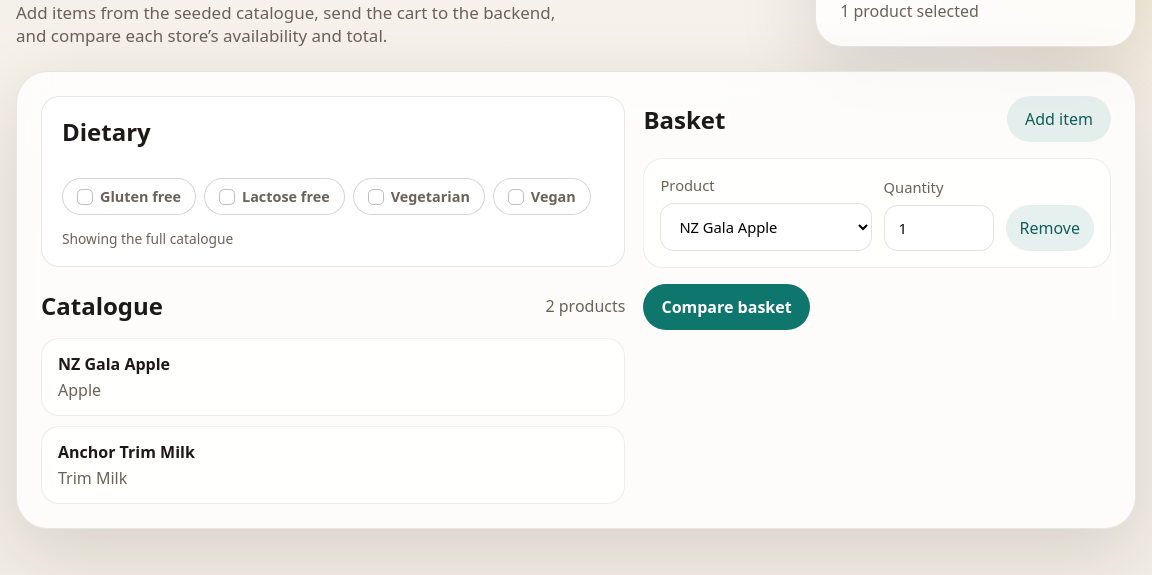
Test: basket comparison › clears a previous result when a failing comparison is retried
The image size is (1152, 575).
(page scrolled)
Expected: the text "Apple" is shown, [58,379,101,401]
Click the button "Compare basket" at x=726, y=307, box [643,284,810,330]
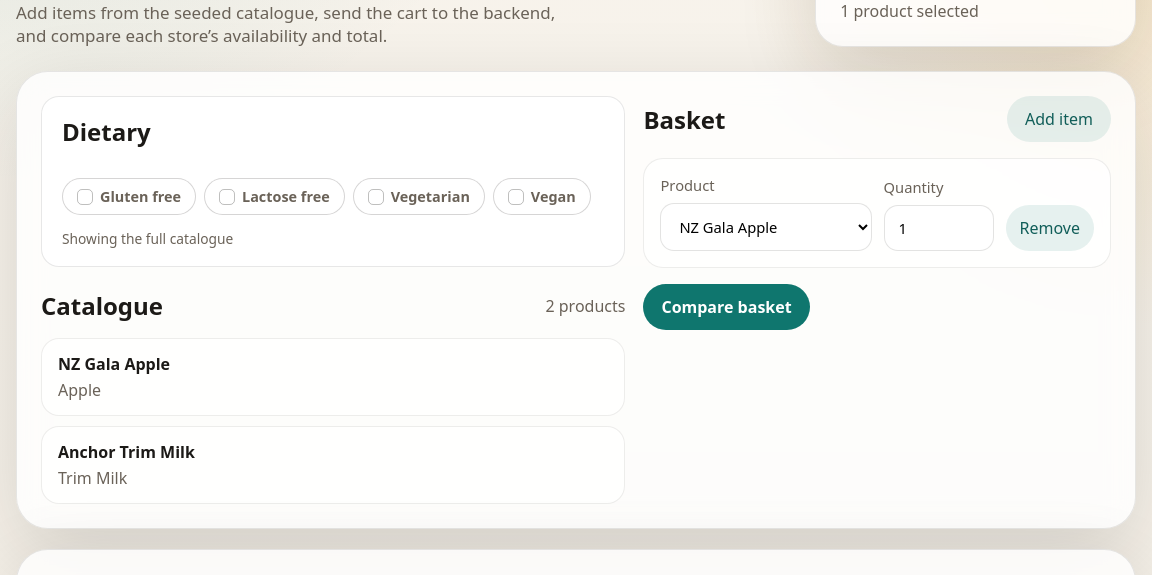
Click the button "Compare basket" at x=726, y=307, box [643,284,810,330]
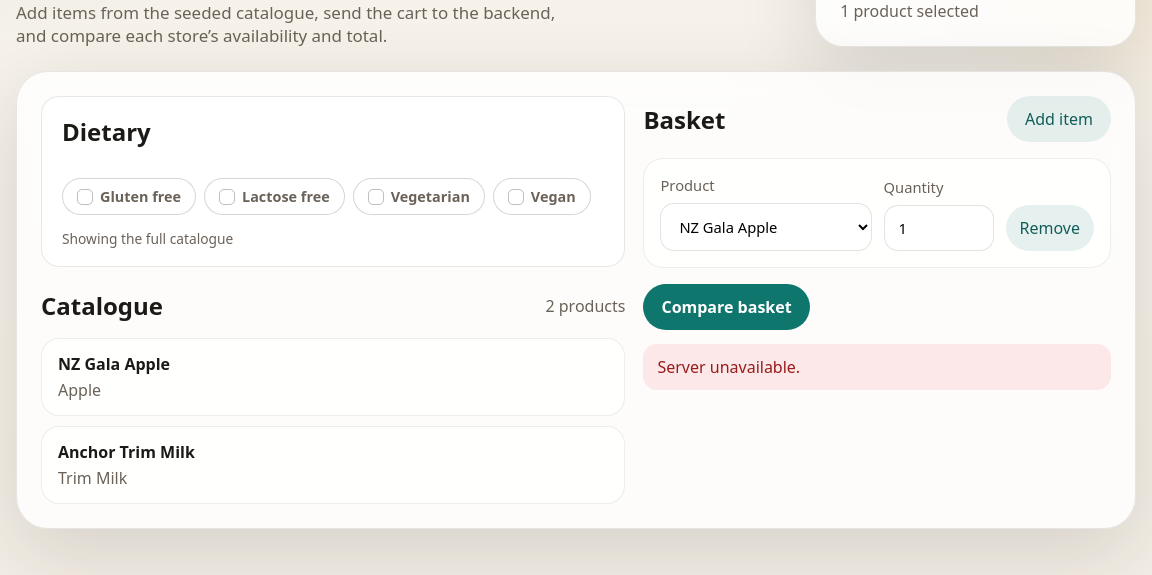
Result: the text "Server unavailable." is shown at [643,344,1111,390]
